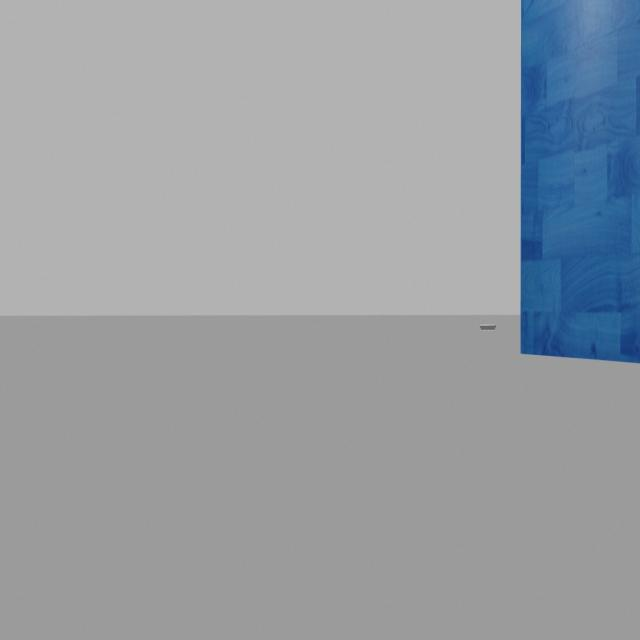bowl: (476, 320, 500, 337)
shelf: (514, 3, 640, 373)
